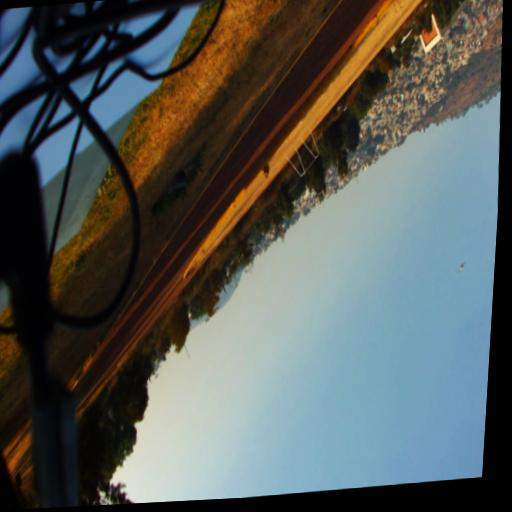drones: (456, 259, 467, 274)
